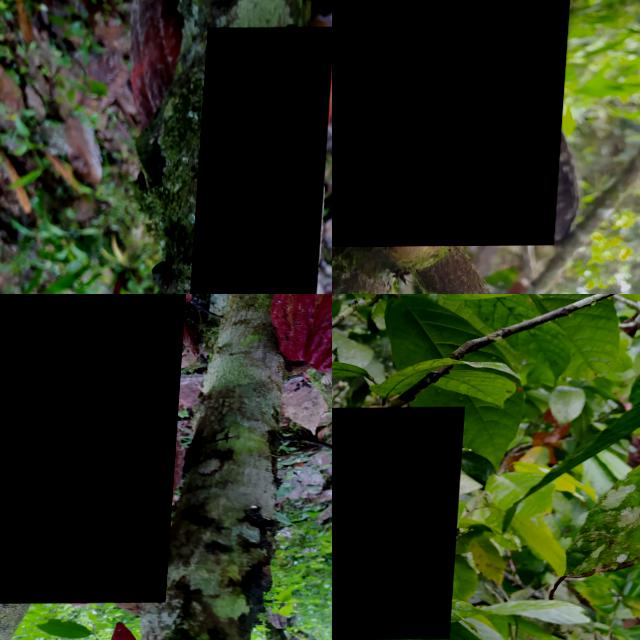Fitoftora: (0, 294, 189, 603), (515, 117, 590, 245)
Monilia: (187, 27, 332, 294), (332, 407, 467, 640)
Sana: (332, 0, 585, 247), (115, 620, 152, 640)
